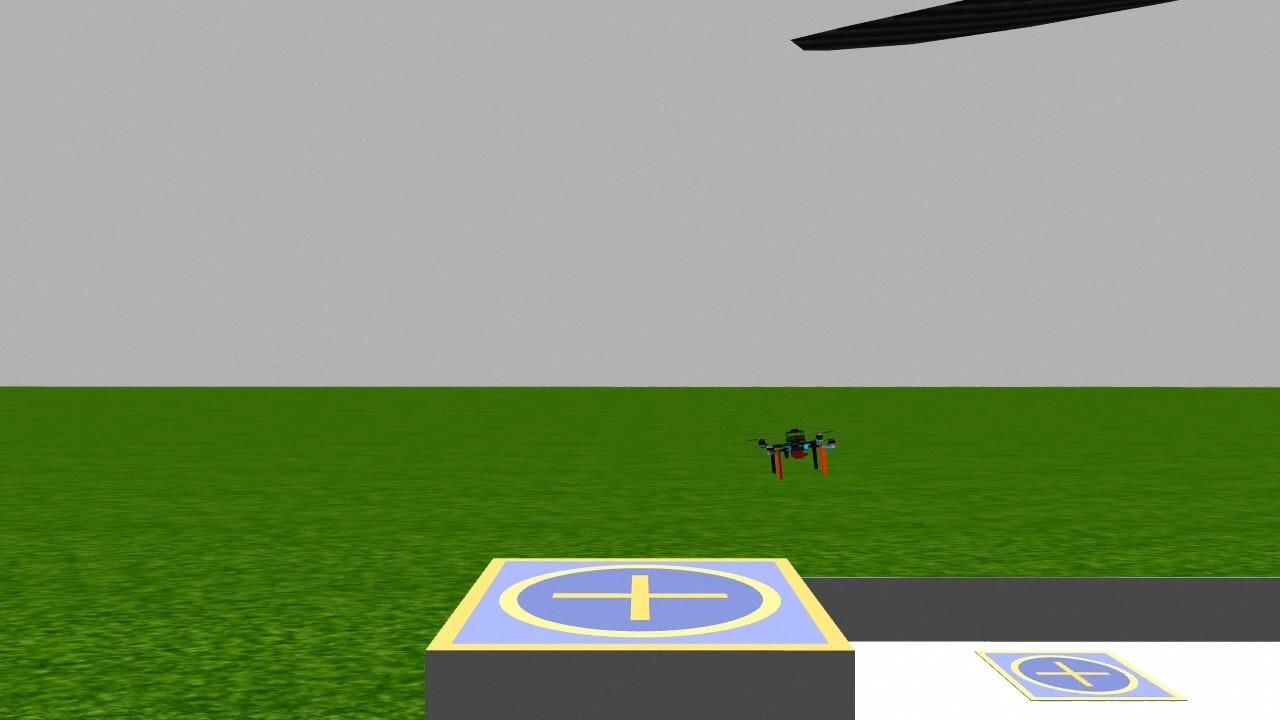UAV: (733, 415, 857, 487)
